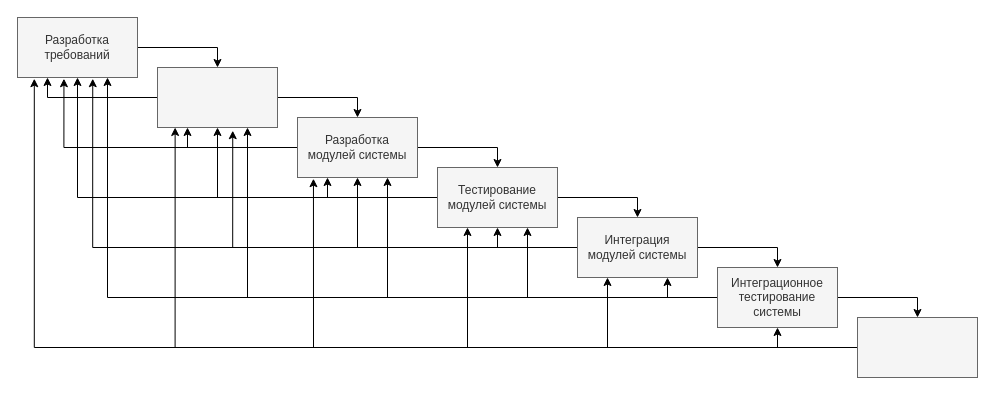
Image size: 995x395. Some labels were removed from this diagram. Each missing label, with the box of its shape:
Проектирование: (156, 66, 278, 128)
Развёртывание модулей системы: (856, 316, 978, 378)
